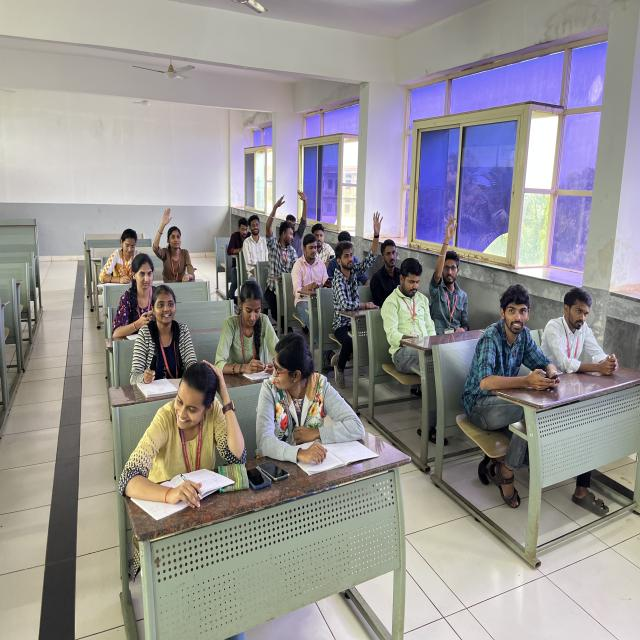Hand Rising: (430, 195, 474, 346), (326, 212, 385, 314), (154, 193, 202, 293), (262, 187, 299, 289), (274, 178, 314, 262)
Reading: (219, 272, 284, 386)
Using Phone: (476, 279, 562, 421), (387, 259, 440, 355), (108, 253, 164, 341), (296, 235, 336, 307)
Writing: (130, 362, 248, 520), (128, 281, 200, 397)
